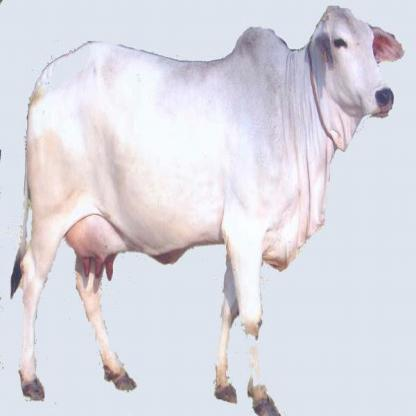cow: (21, 14, 403, 416)
